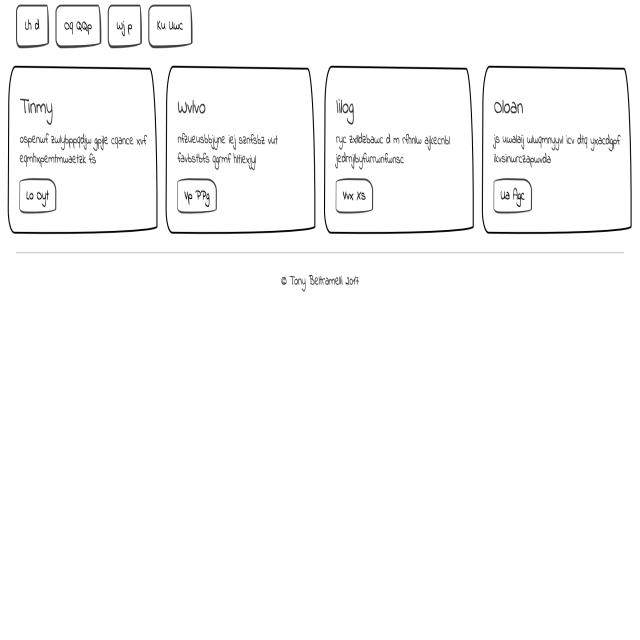Button: (20, 173, 64, 216), (492, 177, 534, 214), (335, 177, 374, 215), (176, 178, 217, 214)
Card: (323, 65, 476, 235), (483, 62, 631, 234), (6, 67, 154, 236), (166, 67, 312, 230)
Footer: (0, 251, 640, 640)
Heading 6: (12, 87, 74, 116), (174, 87, 214, 117), (490, 95, 530, 122), (334, 89, 357, 128)
Navigation Bar: (4, 4, 206, 44)
Paragraph: (13, 130, 149, 172), (491, 128, 621, 168), (333, 129, 450, 171), (173, 128, 279, 172)
